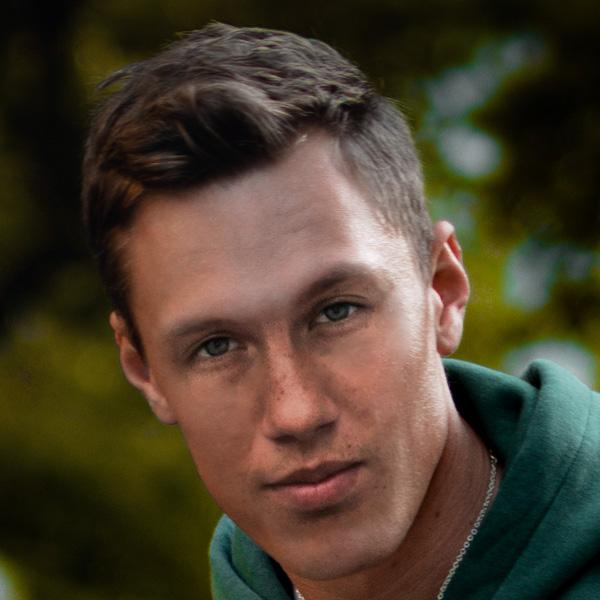Eyes: (176, 322, 258, 379), (302, 281, 380, 336)
